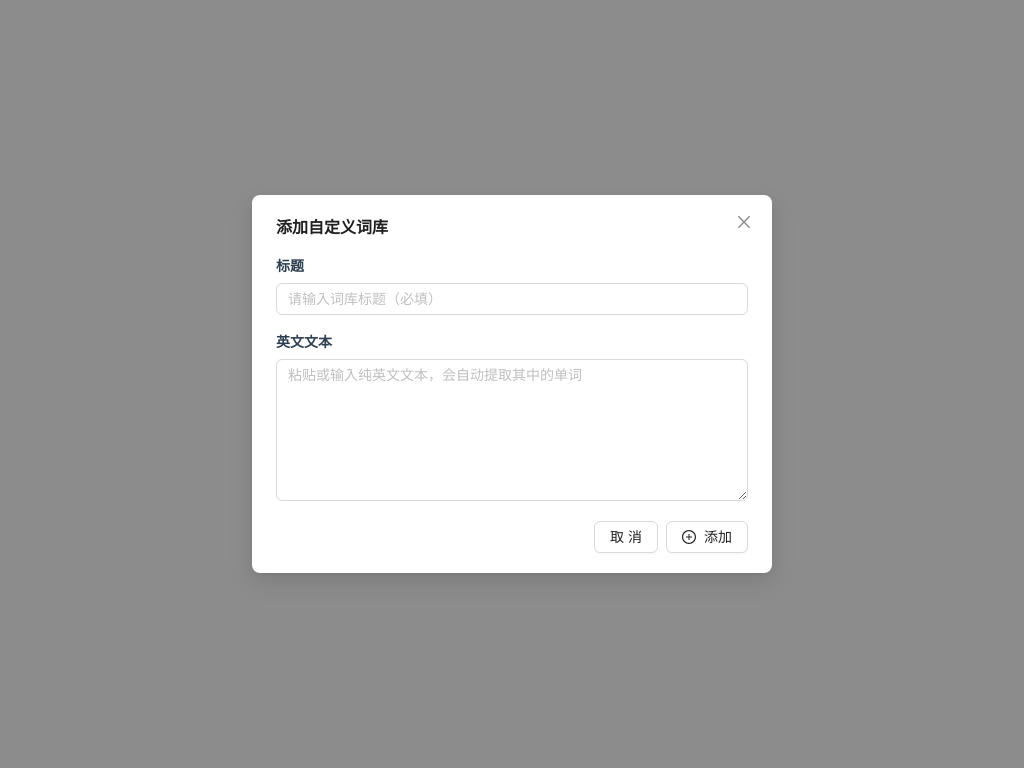
CustomWordModal（自定义词库弹窗） › 只填标题不填文本：叉号（红）且确认按钮禁用
Type "我的词库" into the field with placeholder "请输入词库标题（必填）" at x=504, y=299, box [288,288,720,310]
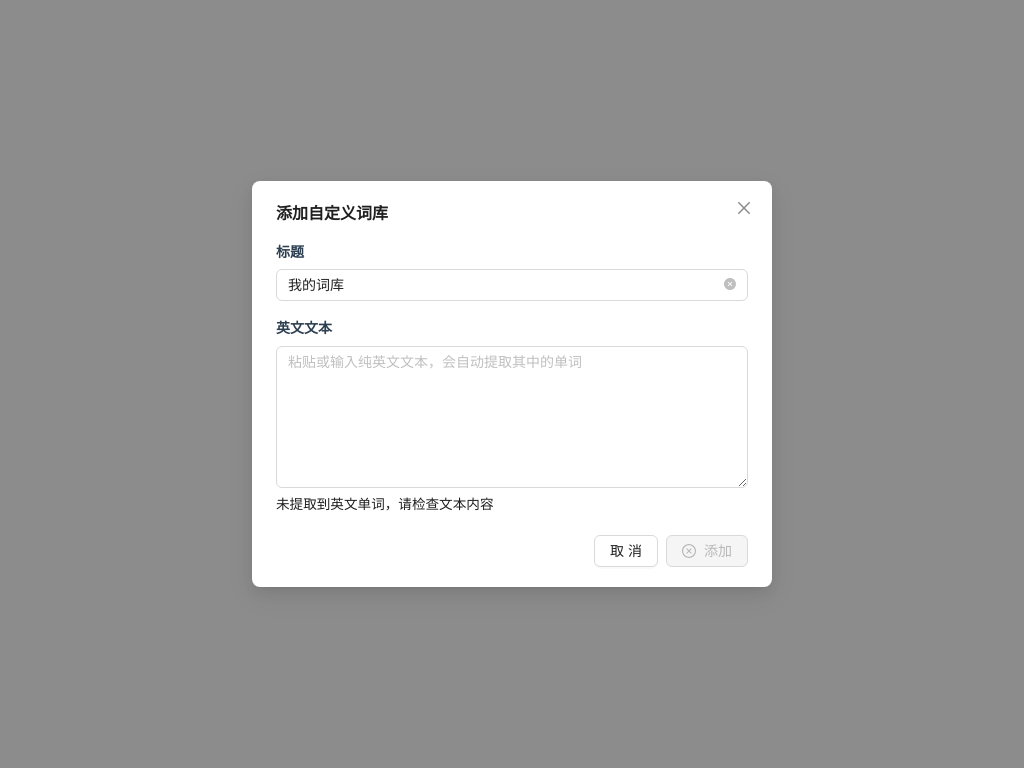
Expected: the picture with class "icon-invalid" is shown, [682,544,696,558]
Expected: the button "添加" is disabled, [666,535,748,567]
Expected: the text "未提取到英文单词，请检查文本内容" is shown, [276,496,494,512]
